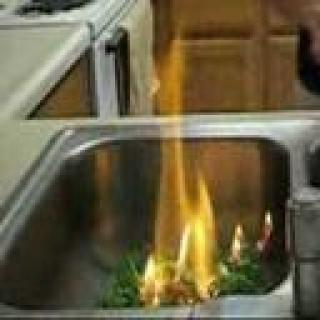fire: (152, 71, 262, 294)
